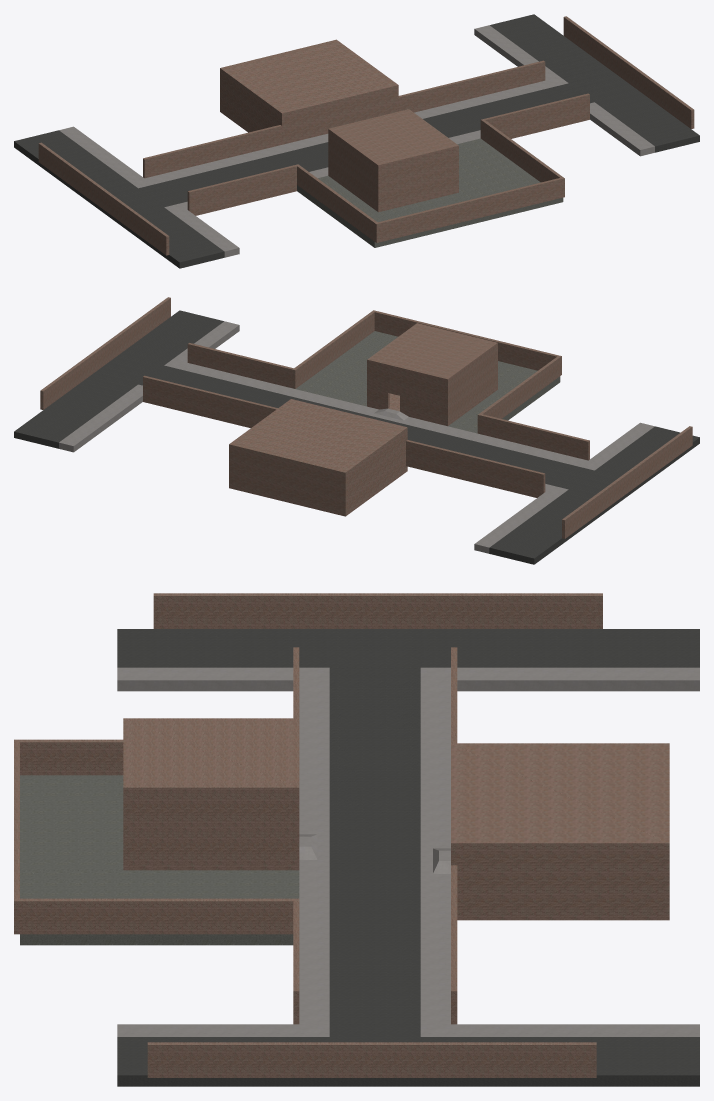
The model's file is building1.glb.
3 renders of one model, top to bottom at view 1: azimuth 30°, elevation 25°; view 2: azimuth 150°, elevation 25°; view 3: azimuth 270°, elevation 25°, orthographic. The views are drawn at different scales.
Visible parts, largest first — view 1: Cube.031, Cube.019, Cube.007, Cube.034, Cube.023, Cube.011, Cube, Cube.015, Cube.037, Cube.039, Cube.032, Cube.030 (+18 smaller); view 2: Cube.031, Cube.019, Cube.034, Cube.007, Cube.023, Cube.032, Cube.028, Cube, Cube.037, Cube.039, Cube.017, Cube.015 (+17 smaller); view 3: Cube.031, Cube.007, Cube.034, Cube.037, Cube.039, Cube.019, Cube.023, Cube, Cube.010, Cube.028, Cube.030, Cube.012 (+14 smaller).
Part boxes in pixels (x1,y1,x2,y2): Cube.031: (220, 39, 398, 144); Cube.019: (490, 14, 699, 152); Cube.007: (138, 83, 594, 207); Cube.034: (14, 130, 224, 268); Cube.023: (328, 109, 458, 168); Cube.011: (378, 178, 561, 241); Cube: (457, 138, 563, 220); Cube.015: (187, 165, 296, 215); Cube.037: (563, 16, 694, 128); Cube.039: (38, 142, 169, 255); Cube.032: (143, 125, 281, 178); Cube.030: (145, 80, 553, 184); Cube.031: (229, 399, 407, 516); Cube.019: (14, 310, 223, 448); Cube.034: (489, 426, 699, 564); Cube.007: (138, 365, 594, 489); Cube.023: (367, 323, 497, 382); Cube.032: (406, 440, 545, 497); Cube.028: (179, 363, 587, 466); Cube: (296, 331, 397, 406); Cube.037: (40, 297, 170, 409); Cube.039: (562, 426, 692, 538); Cube.017: (143, 375, 248, 427); Cube.015: (480, 414, 589, 460); Cube.031: (451, 743, 669, 920); Cube.007: (329, 667, 420, 1036); Cube.034: (117, 629, 699, 667); Cube.037: (147, 1042, 596, 1077); Cube.039: (153, 593, 602, 628); Cube.019: (117, 1037, 699, 1086); Cube.023: (123, 718, 299, 793); Cube: (20, 870, 299, 945); Cube.010: (14, 898, 299, 934); Cube.028: (299, 680, 329, 1024); Cube.030: (420, 680, 450, 1024); Cube.012: (20, 801, 123, 870).
Bounding box in the file's own units: 88 × 9.5 × 56.5.
Materials: 4 (4 with a texture image).
